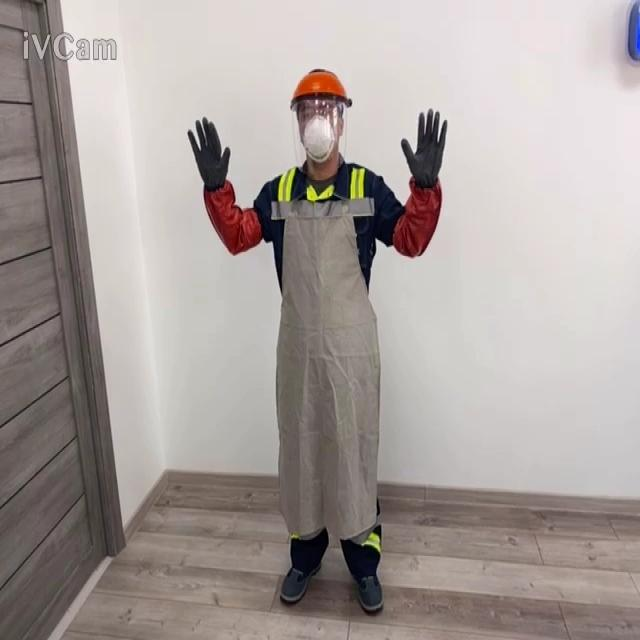Gloves: (400, 108, 447, 188)
Mask: (300, 110, 336, 162)
Protective apron: (270, 168, 381, 543)
Safety Shoes: (279, 560, 321, 603), (356, 572, 383, 612)
Sleeve: (202, 178, 262, 254), (392, 175, 442, 257)
gloves: (187, 116, 230, 191)
